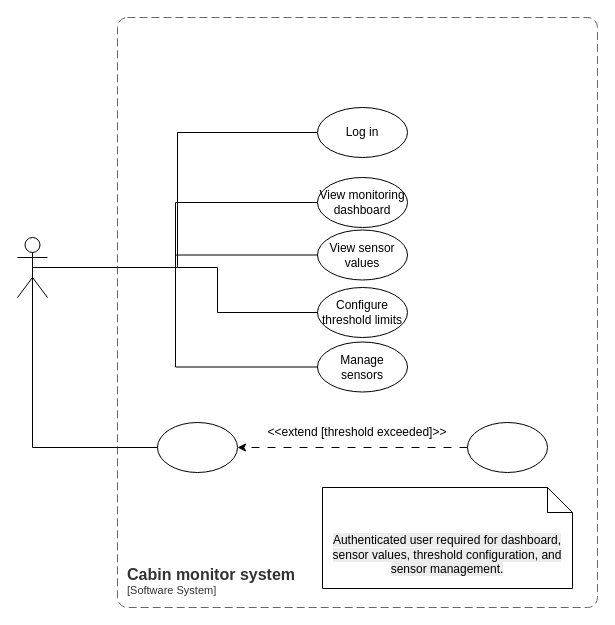
Some shapes in this 615 by 625 pixel diagram are drawn without their labels. The centre of each missing label's shape, as x and y in pixels:
"Monitor system metrics" goes at [507,447].
"send notification" goes at [197,447].
"User" goes at [32,267].
